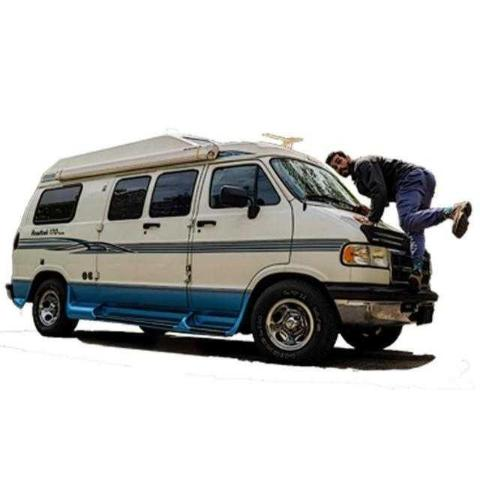van: (7, 133, 437, 366)
